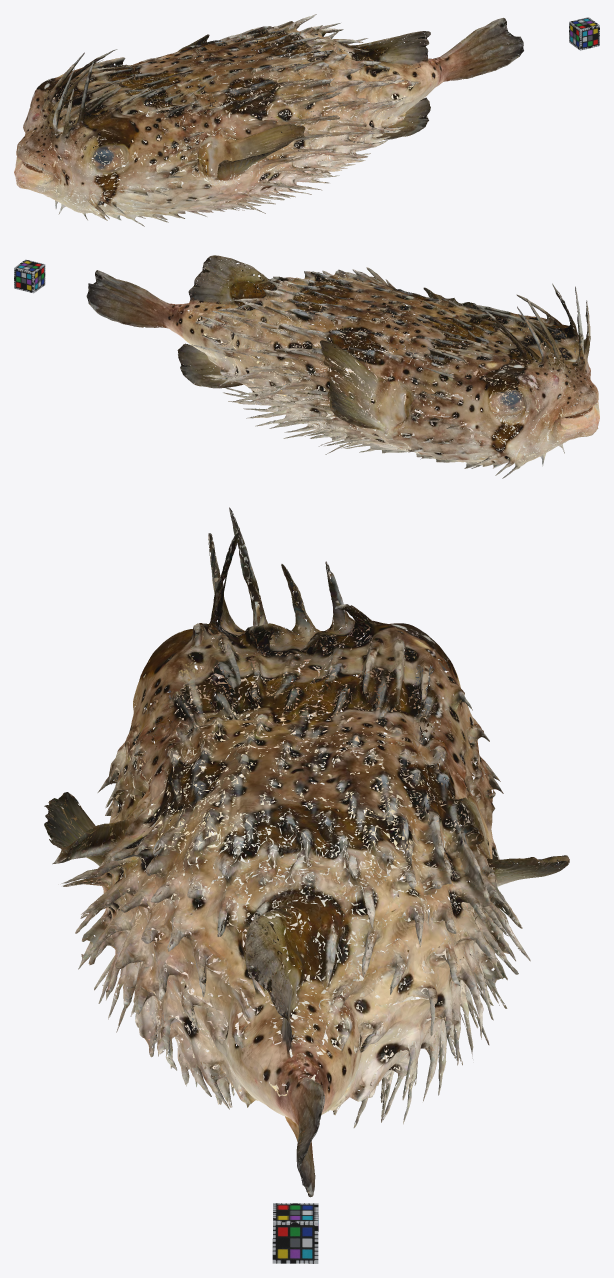
The model's file is scan_puffer_balloon.glb.
The picture shows the model from 3 angles, top to bottom: view 1: azimuth 30°, elevation 25°; view 2: azimuth 150°, elevation 25°; view 3: azimuth 270°, elevation 25°; orthographic projection. The views are drawn at different scales.
Visible parts, largest first — view 1: Object_12, Object_6, Object_18, Object_4; view 2: Object_6, Object_12, Object_18, Object_4; view 3: Object_6, Object_18, Object_12, Object_4.
Part boxes in pixels (bbox=[...]): Object_12: bbox=[14, 18, 523, 224]; Object_6: bbox=[15, 17, 523, 226]; Object_18: bbox=[14, 14, 523, 223]; Object_4: bbox=[569, 17, 599, 50]; Object_6: bbox=[87, 256, 598, 478]; Object_12: bbox=[86, 255, 599, 469]; Object_18: bbox=[102, 256, 598, 473]; Object_4: bbox=[14, 259, 45, 293]; Object_6: bbox=[44, 507, 569, 1196]; Object_18: bbox=[44, 508, 569, 1194]; Object_12: bbox=[45, 509, 567, 1197]; Object_4: bbox=[272, 1203, 318, 1263].
Bounding box in the file's own units: 16.43 × 4.9 × 6.5.
4 materials, 4 textured.
